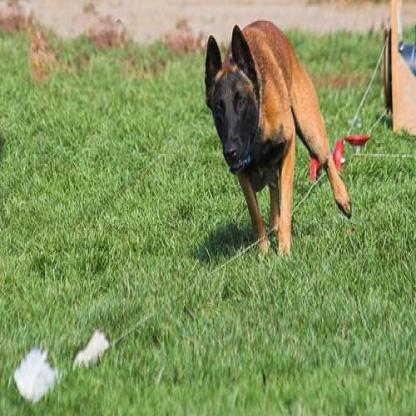malinois: (203, 17, 349, 258)
